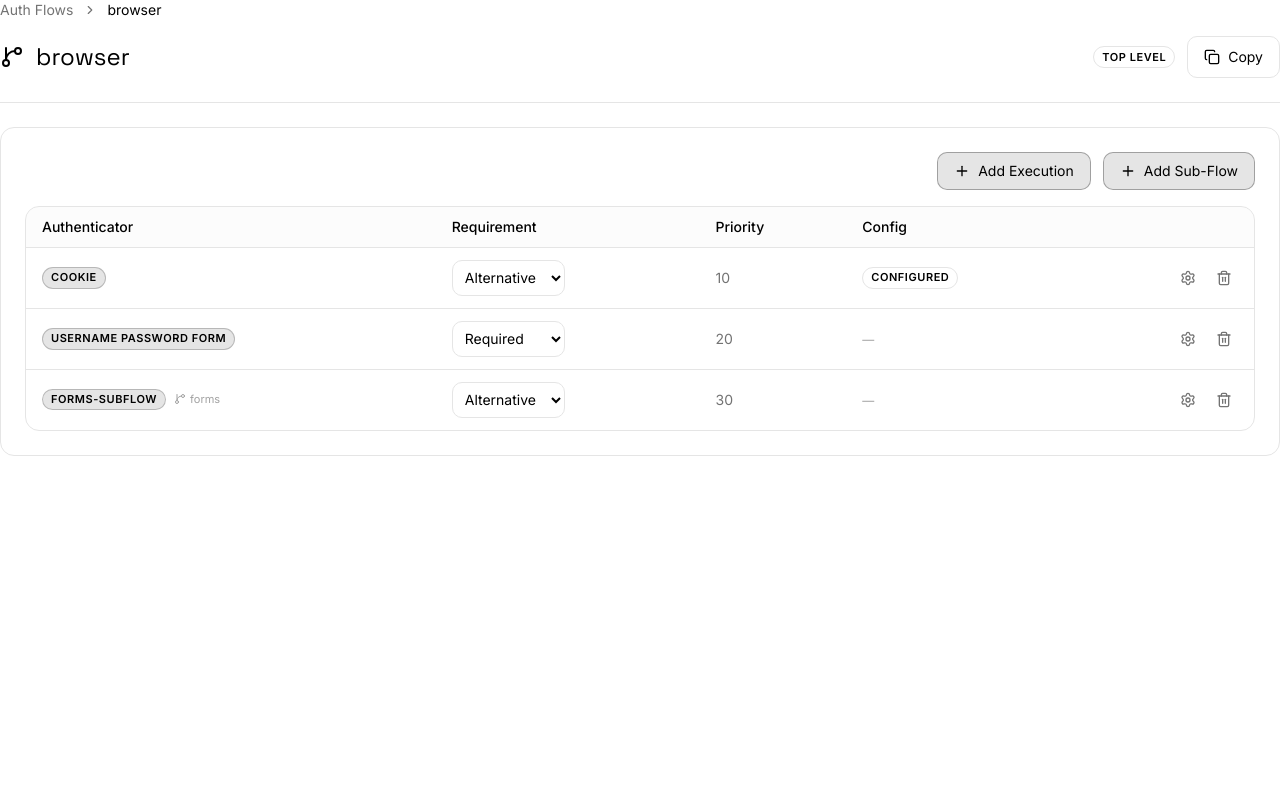
Scenario: AuthFlowDetailPage › probes the config endpoint only for stages advertising has_config
Step 1. Click the button named "Configure auth-cookie" → (1188, 278), box [1174,264,1202,292]
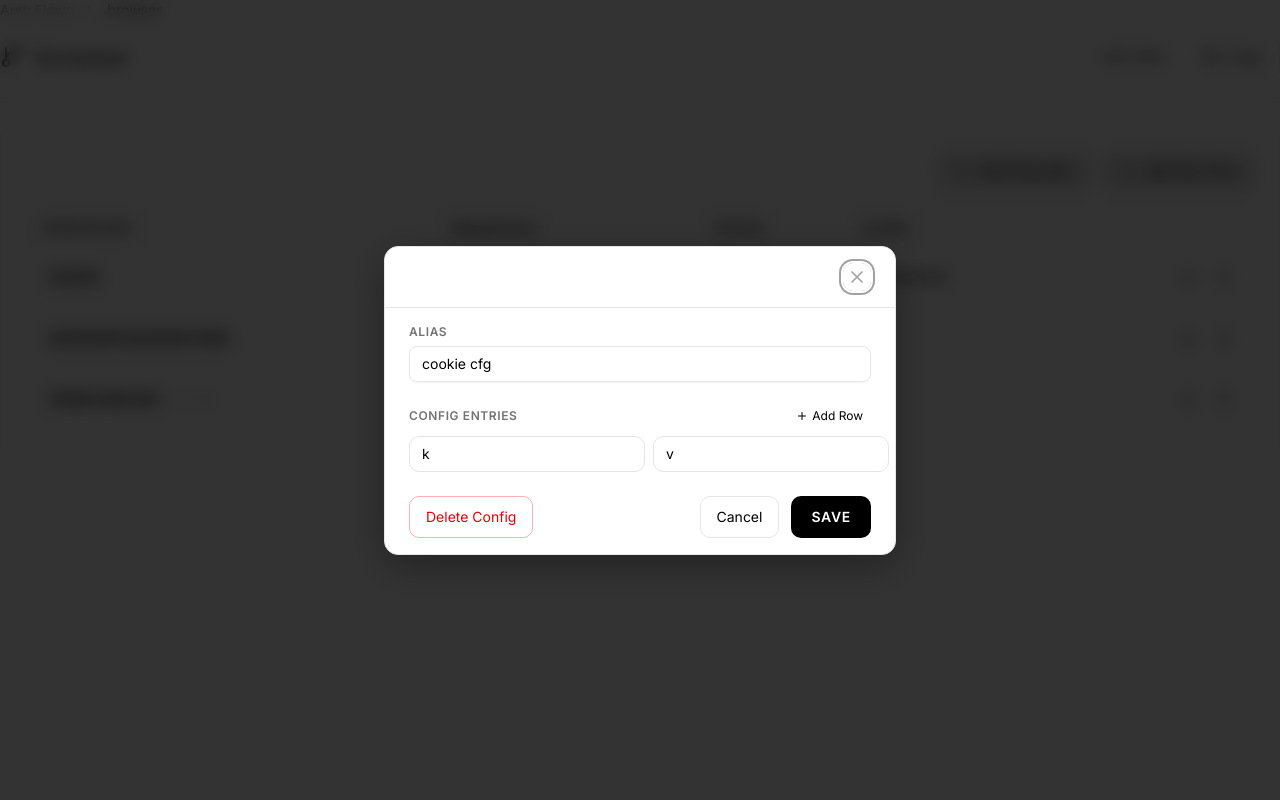
Now the field labelled "Alias" is shown, box [409,346,871,382]
Step 2. Click the button "Cancel" → (739, 516), box [700,496,779,538]
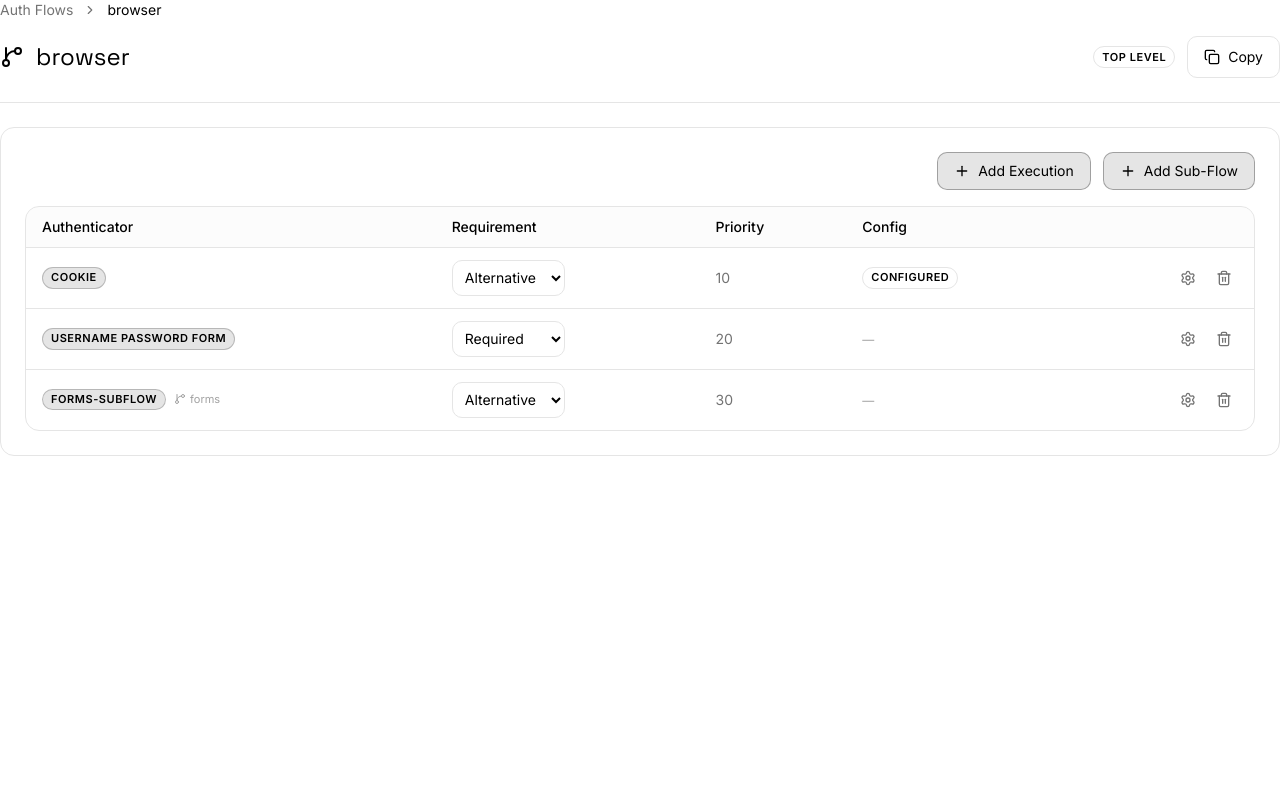
Now the label labelled "Alias" is gone
Step 3. Click the button named "Configure auth-username-password-form" → (1188, 338), box [1174,324,1202,352]
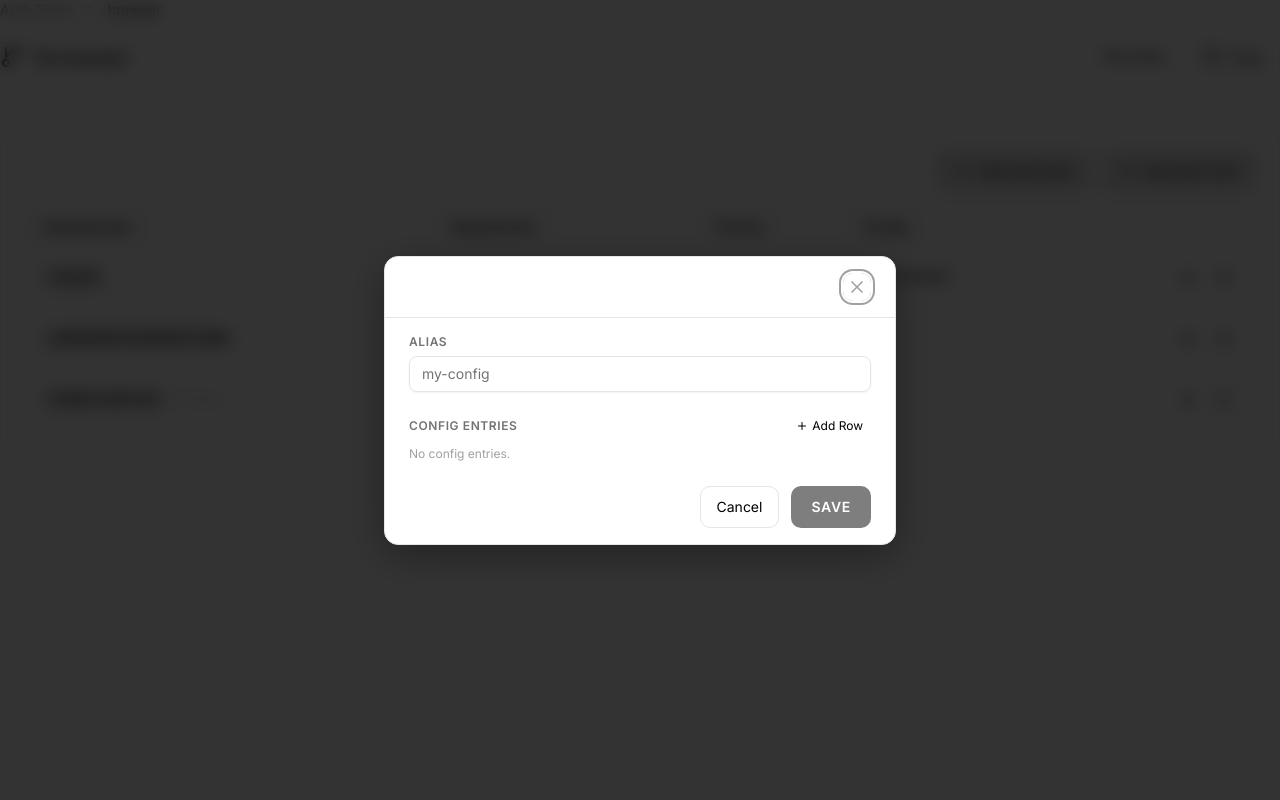
Now the field labelled "Alias" is shown, box [409,356,871,392]
